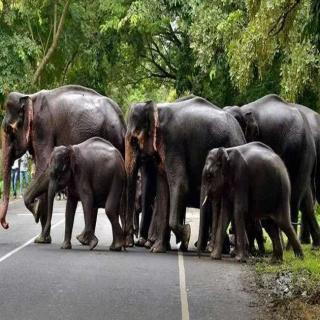Elephant: (0, 83, 137, 247), (121, 94, 252, 253), (195, 140, 306, 264), (42, 135, 132, 254)
